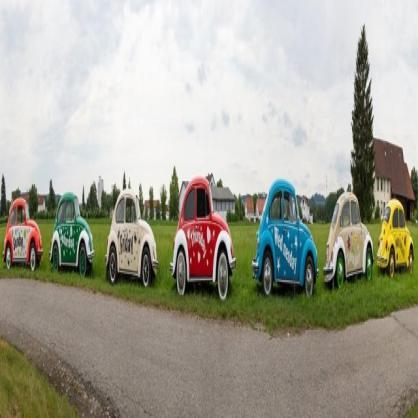car: (174, 178, 238, 304), (255, 182, 319, 303), (106, 192, 160, 288), (327, 192, 375, 296), (53, 195, 97, 277), (380, 200, 416, 283), (6, 198, 42, 275)
